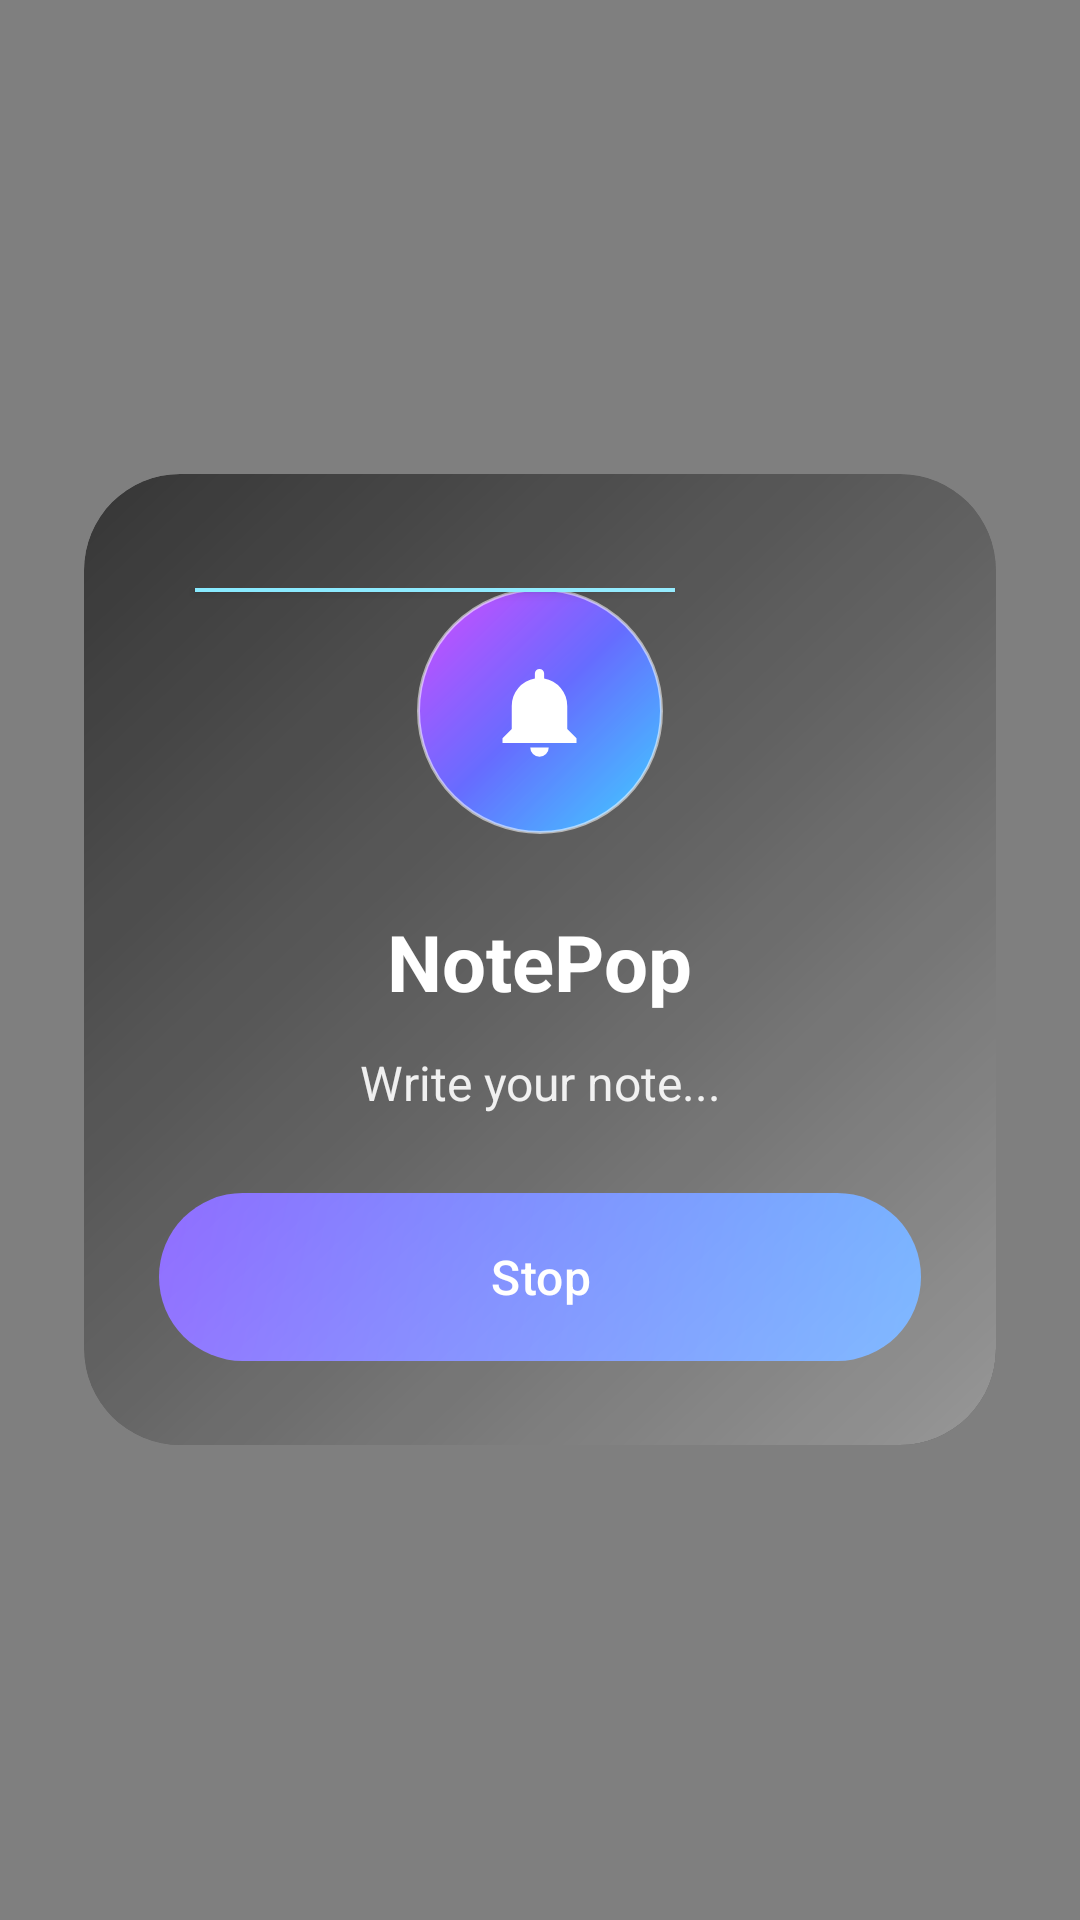

Icons on this 1080*1920 Android screen, each with the point to tap as (x,y):
Alarm Sound: (539,710)
